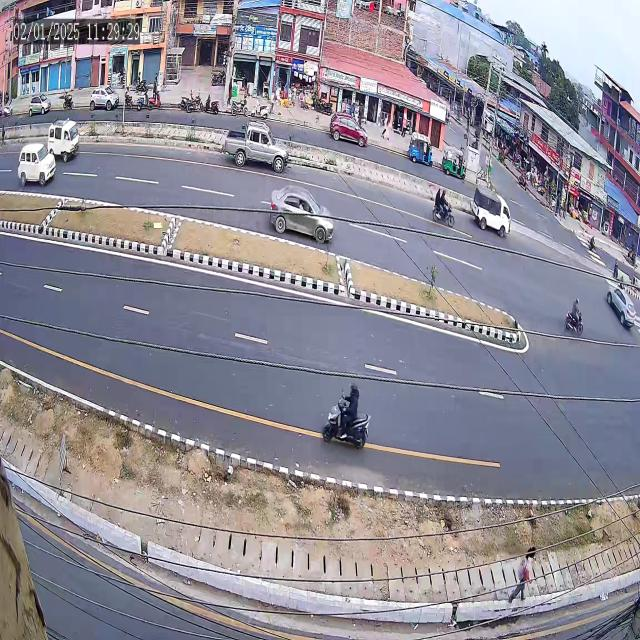car: (258, 177, 344, 251), (10, 139, 58, 189)
motorcycle: (312, 377, 379, 461), (556, 287, 588, 344)
van: (44, 116, 82, 163)
